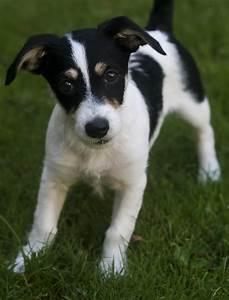dog: (4, 0, 221, 280)
